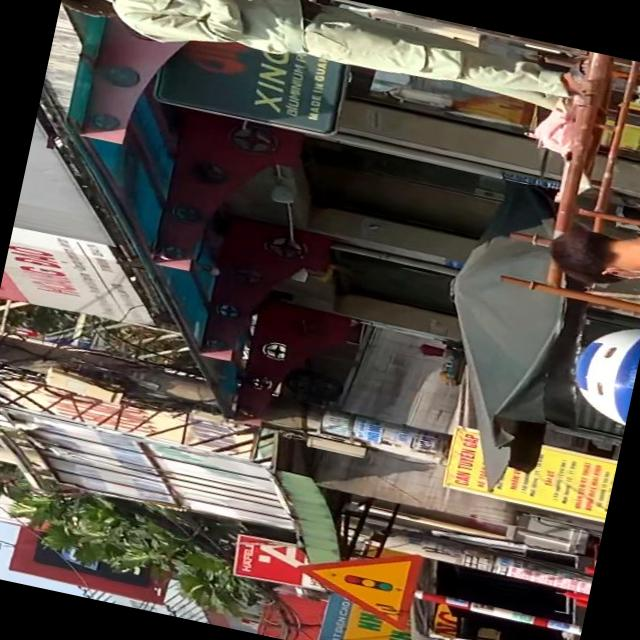W-209: (292, 528, 422, 631)
